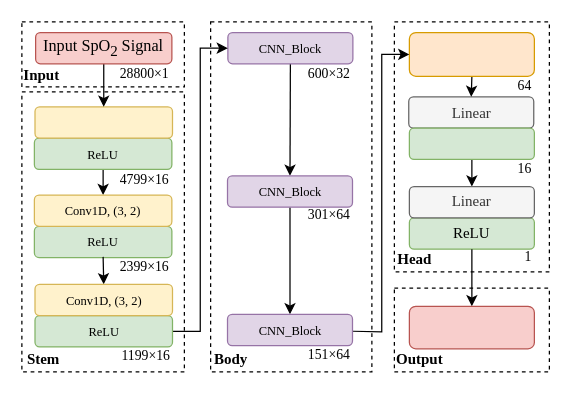
Some shapes in this 571 by 394 pixel diagram are drawn without their labels. Here are the shapes that lost their labels. From the top down, the centre of each, then its label:
(471,53): Global Average Pooling
(103,122): Conv1D, (11, 6)
(471,143): Sigmoid
(471,327): AHI Value
